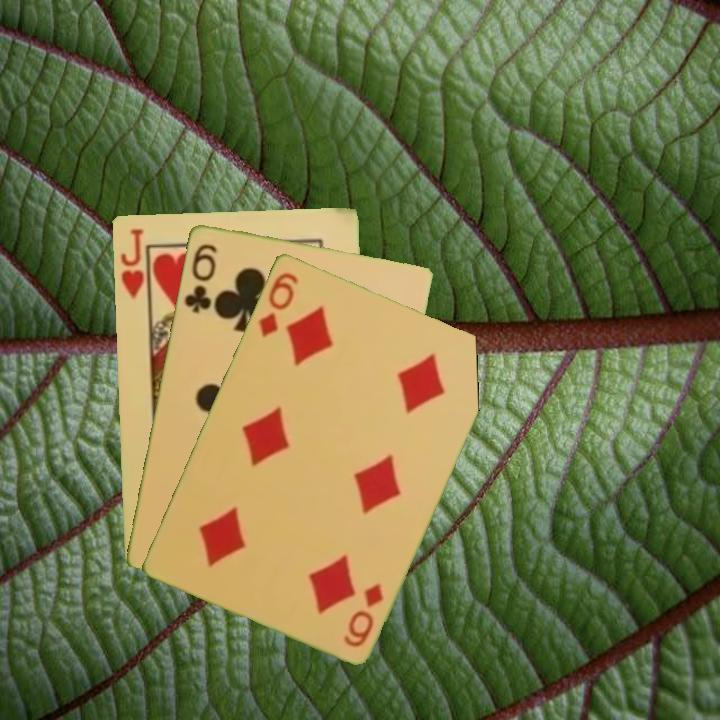6c: (180, 240, 220, 316)
6d: (254, 268, 301, 340), (340, 579, 386, 650)
Jh: (116, 224, 146, 301)
